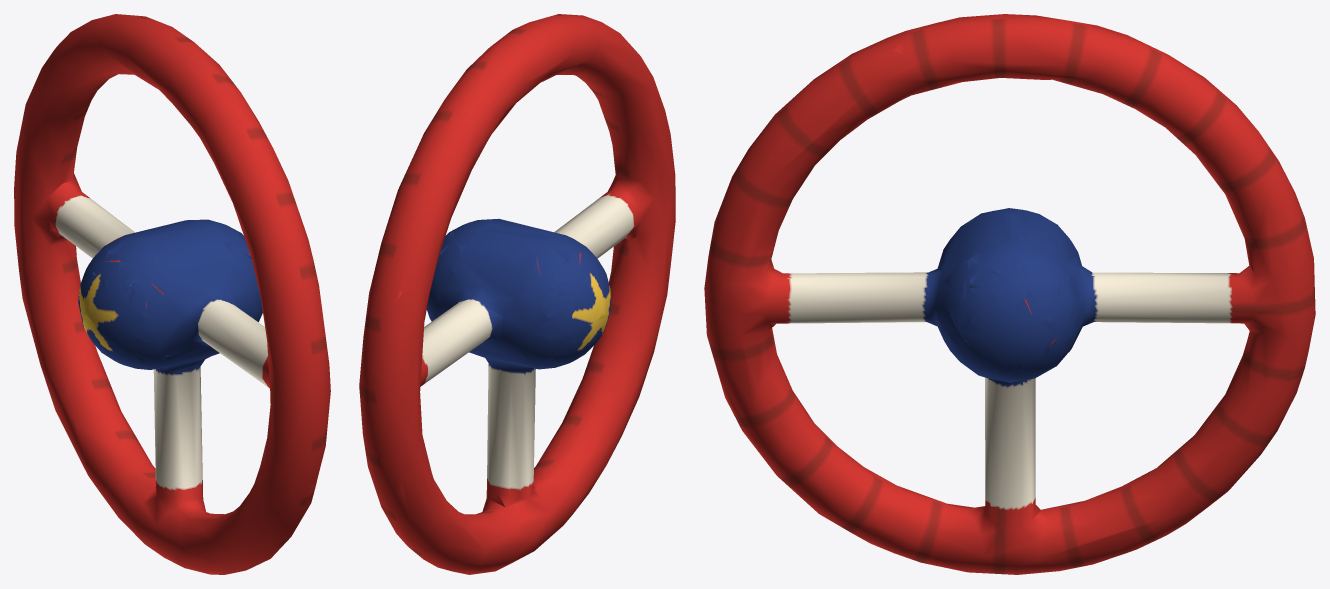
File: SM_Boat_Wheel.fbx
The picture shows the model from 3 angles, left to right: view 1: azimuth 30°, elevation 25°; view 2: azimuth 150°, elevation 25°; view 3: azimuth 270°, elevation 25°; orthographic projection. The views are drawn at different scales.
Parts seen in each view (by area): view 1: SM_Boat_Wheel; view 2: SM_Boat_Wheel; view 3: SM_Boat_Wheel.
Boxes of the visible parts, x1,y1,x2,y2 form: SM_Boat_Wheel: (14, 14, 330, 574); SM_Boat_Wheel: (359, 14, 675, 574); SM_Boat_Wheel: (704, 14, 1315, 574).
Bounding box in the file's own units: 18.3 × 6.3 × 18.29.
Materials: 1 (1 with a texture image).
